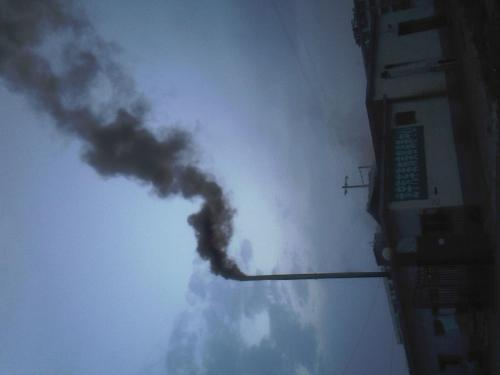smoke: (1, 1, 244, 281)
